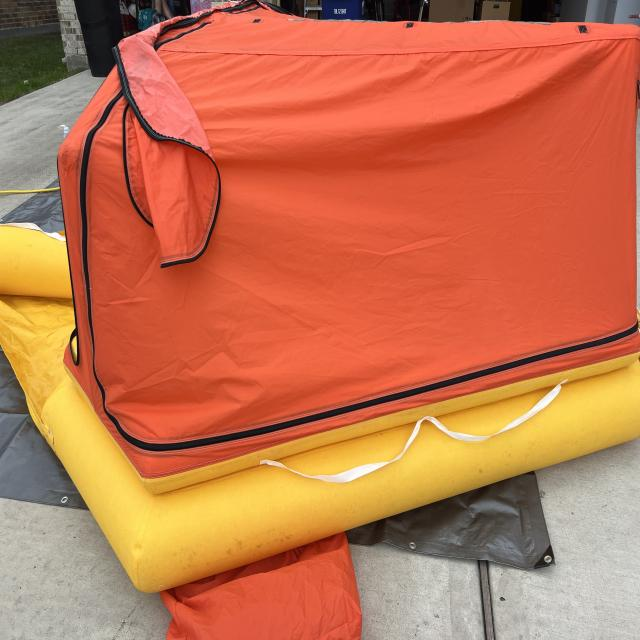Multi-person_life_raft: (1, 3, 640, 639)
